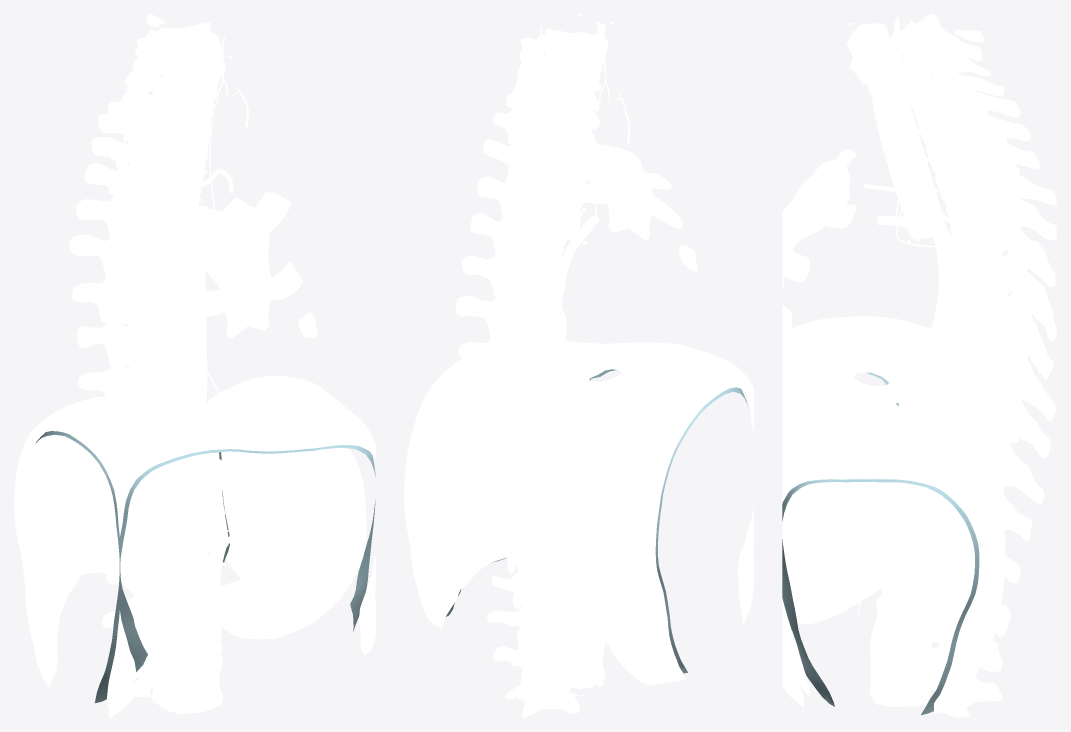
File: oesophagus.glb
3 renders of one model, left to right at view 1: azimuth 30°, elevation 25°; view 2: azimuth 150°, elevation 25°; view 3: azimuth 270°, elevation 25°, orthographic. The views are drawn at different scales.
Visible parts, largest first — view 1: Diaphragm, Stomach, Manubrium of sternum, Oesophagus.001, Diaphragmatic fascia, Trachea, Vertebra L3, Vertebra L2, Vertebra T8, Vertebra T7, Vertebra T9, Vertebra T6 (+22 smaller); view 2: Diaphragm, Vertebra T10, Vertebra T6, Vertebra L3, Vertebra L2, Vertebra T9, Vertebra T7, Vertebra L1, Vertebra T8, Vertebra T5, Vertebra T12, Vertebra T11 (+14 smaller); view 3: Diaphragm, Stomach, Thoracic aorta.001, Vertebra L3, Vertebra T9, Vertebra T8, Vertebra L2, Diaphragmatic fascia, Vertebra T7, Vertebra T10, Manubrium of sternum, Vertebra T3 (+21 smaller).
Part boxes in pixels (x1=…): Diaphragm: x1=14, y1=376, x2=375, y2=706; Stomach: x1=195, y1=447, x2=366, y2=639; Manubrium of sternum: x1=187, y1=198, x2=271, y2=298; Oesophagus.001: x1=154, y1=104, x2=224, y2=481; Diaphragmatic fascia: x1=35, y1=431, x2=375, y2=702; Trachea: x1=161, y1=110, x2=212, y2=225; Vertebra L3: x1=134, y1=640, x2=223, y2=714; Vertebra L2: x1=101, y1=596, x2=222, y2=662; Vertebra T8: x1=77, y1=305, x2=166, y2=369; Vertebra T7: x1=72, y1=263, x2=159, y2=328; Vertebra T9: x1=78, y1=350, x2=173, y2=404; Vertebra T6: x1=69, y1=224, x2=155, y2=290; Diaphragm: x1=404, y1=340, x2=753, y2=685; Vertebra T10: x1=468, y1=432, x2=578, y2=542; Vertebra T6: x1=455, y1=294, x2=557, y2=387; Vertebra L3: x1=493, y1=637, x2=605, y2=717; Vertebra L2: x1=487, y1=594, x2=599, y2=688; Vertebra T9: x1=464, y1=394, x2=572, y2=499; Vertebra T7: x1=458, y1=326, x2=561, y2=423; Vertebra L1: x1=491, y1=555, x2=588, y2=656; Vertebra T8: x1=463, y1=359, x2=564, y2=465; Vertebra T5: x1=462, y1=254, x2=562, y2=336; Vertebra T12: x1=497, y1=508, x2=583, y2=609; Vertebra T11: x1=487, y1=467, x2=583, y2=573; Diaphragm: x1=782, y1=316, x2=1005, y2=713; Stomach: x1=782, y1=482, x2=925, y2=624; Thoracic aorta.001: x1=909, y1=233, x2=977, y2=433; Vertebra L3: x1=869, y1=643, x2=1002, y2=708; Vertebra T9: x1=938, y1=376, x2=1050, y2=457; Vertebra T8: x1=948, y1=335, x2=1056, y2=421; Vertebra L2: x1=872, y1=594, x2=1002, y2=671; Diaphragmatic fascia: x1=782, y1=372, x2=979, y2=715; Vertebra T7: x1=963, y1=291, x2=1053, y2=379; Vertebra T10: x1=936, y1=418, x2=1043, y2=504; Manubrium of sternum: x1=782, y1=160, x2=850, y2=249; Vertebra T3: x1=935, y1=137, x2=1056, y2=205.
Size of the model in its own units: 0.19 by 0.47 by 0.175.
